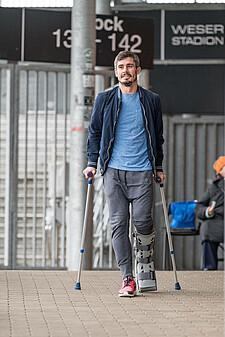crutches: (66, 48, 187, 304)
